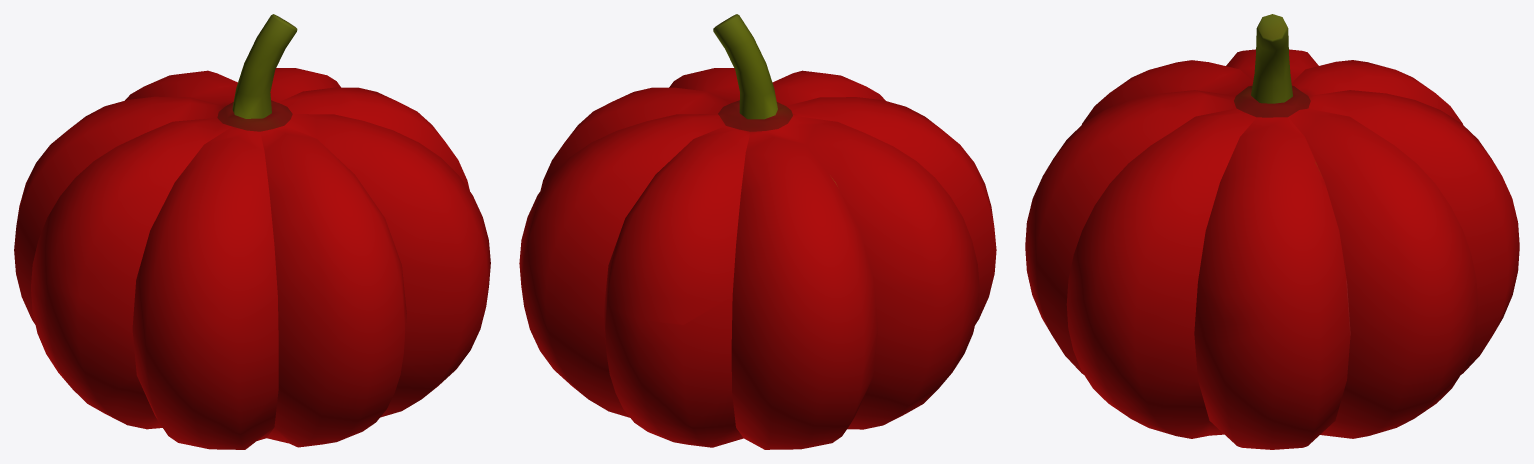
Rendered from SurinamCherry.glb.
3 renders of one model, left to right at view 1: azimuth 30°, elevation 25°; view 2: azimuth 150°, elevation 25°; view 3: azimuth 270°, elevation 25°, orthographic. The views are drawn at different scales.
Visible parts, largest first — view 1: geometry_0; view 2: geometry_0; view 3: geometry_0.
Part boxes in pixels (x1,y1,x2,y2): geometry_0: [14, 14, 490, 449]; geometry_0: [519, 14, 996, 449]; geometry_0: [1025, 14, 1519, 449].
Size of the model in its own units: 0.9995 by 0.9019 by 0.9995.
Materials: 1 (1 with a texture image).
